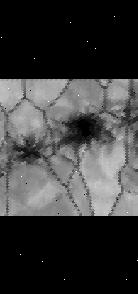good_void: (51, 107, 117, 157), (5, 134, 45, 167), (125, 188, 133, 194)
